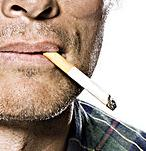smoke: (43, 48, 117, 112)
